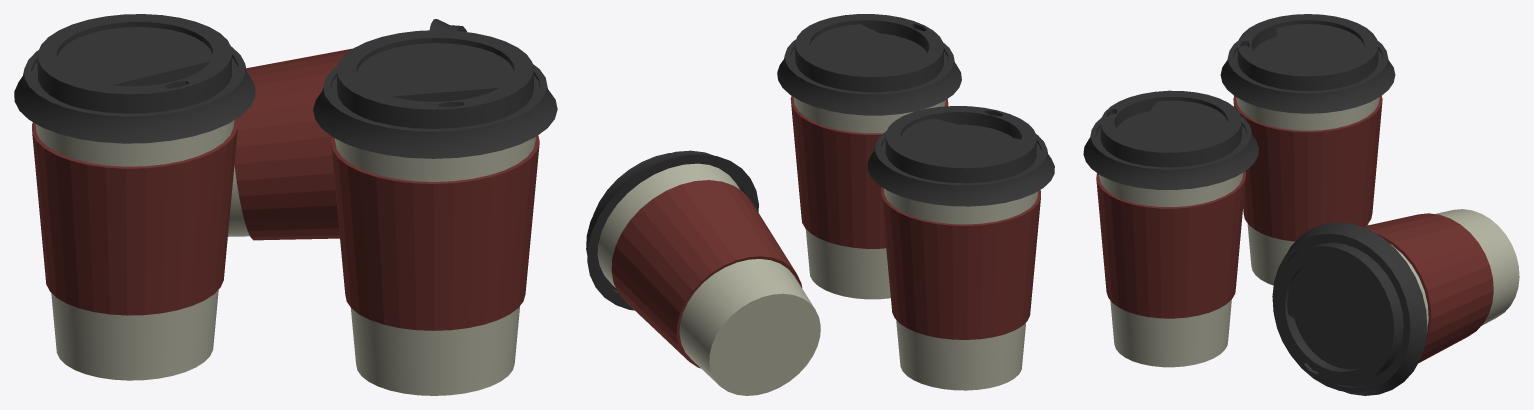
File: DynamicElements.glb
The picture shows the model from 3 angles, left to right: view 1: azimuth 30°, elevation 25°; view 2: azimuth 150°, elevation 25°; view 3: azimuth 270°, elevation 25°; orthographic projection. The views are drawn at different scales.
Visible parts, largest first — view 1: coffee_2, Coffee_1, coffee_3; view 2: Coffee_1, coffee_3, coffee_2; view 3: coffee_2, coffee_3, Coffee_1.
Part boxes in pixels (x1,y1,x2,y2): coffee_2: [313, 30, 557, 395]; Coffee_1: [14, 14, 255, 380]; coffee_3: [228, 19, 466, 240]; Coffee_1: [867, 106, 1054, 390]; coffee_3: [586, 150, 820, 395]; coffee_2: [777, 14, 961, 299]; coffee_2: [1083, 90, 1258, 367]; coffee_3: [1272, 209, 1519, 395]; Coffee_1: [1220, 14, 1395, 285].
Bounding box in the file's own units: 5.9 × 3.14 × 5.63.
